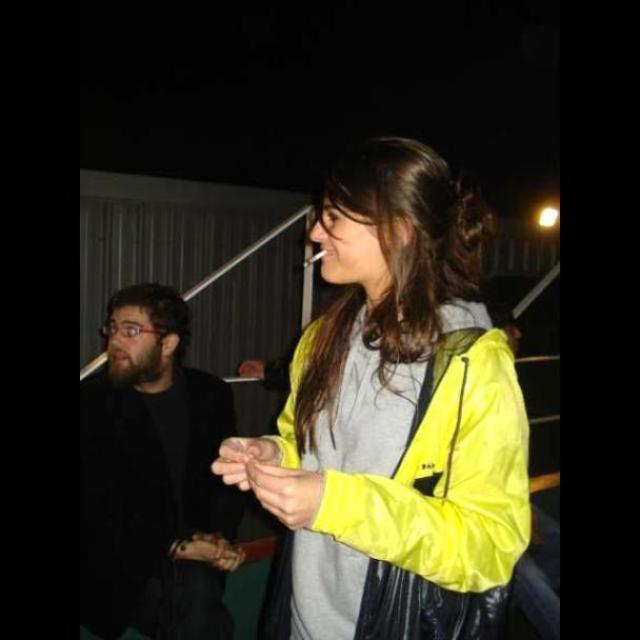rokok: (298, 247, 336, 271)
